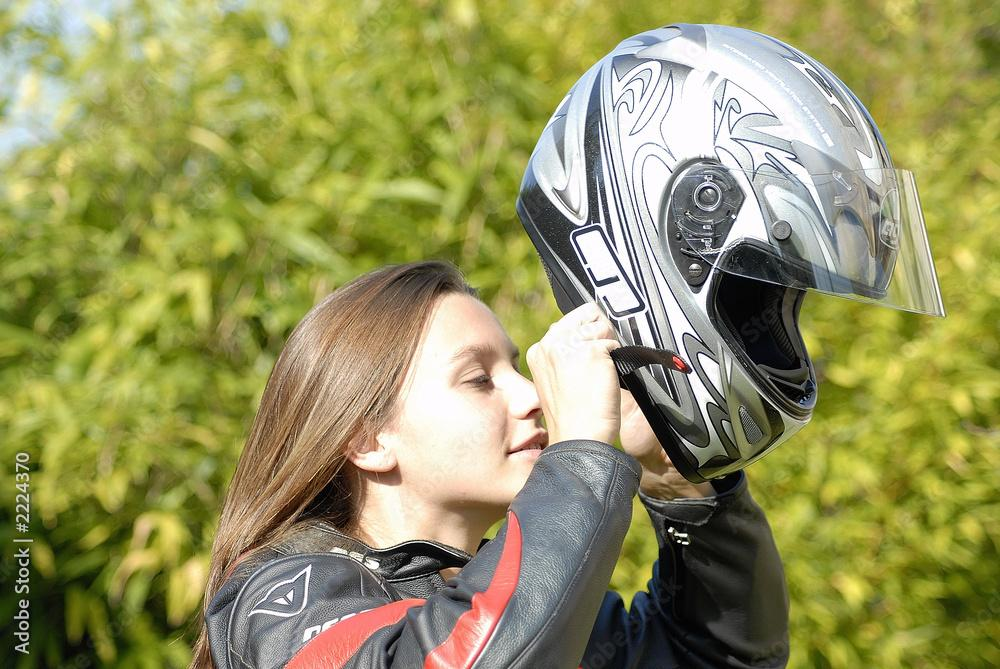helmet: (514, 19, 949, 486)
nohelmet: (272, 256, 567, 532)
